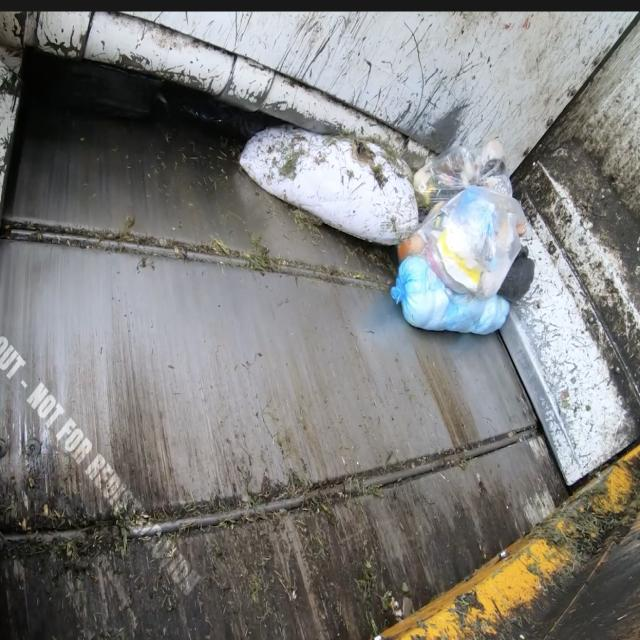bag: (381, 150, 564, 380)
